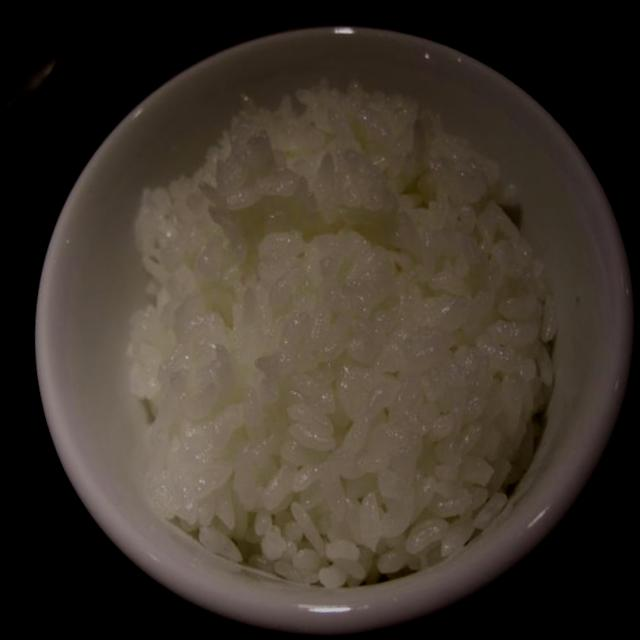Rice: (77, 47, 602, 620)
